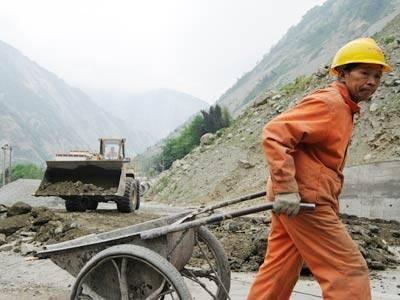helmet: (325, 35, 394, 72)
wear: (272, 88, 348, 208)
